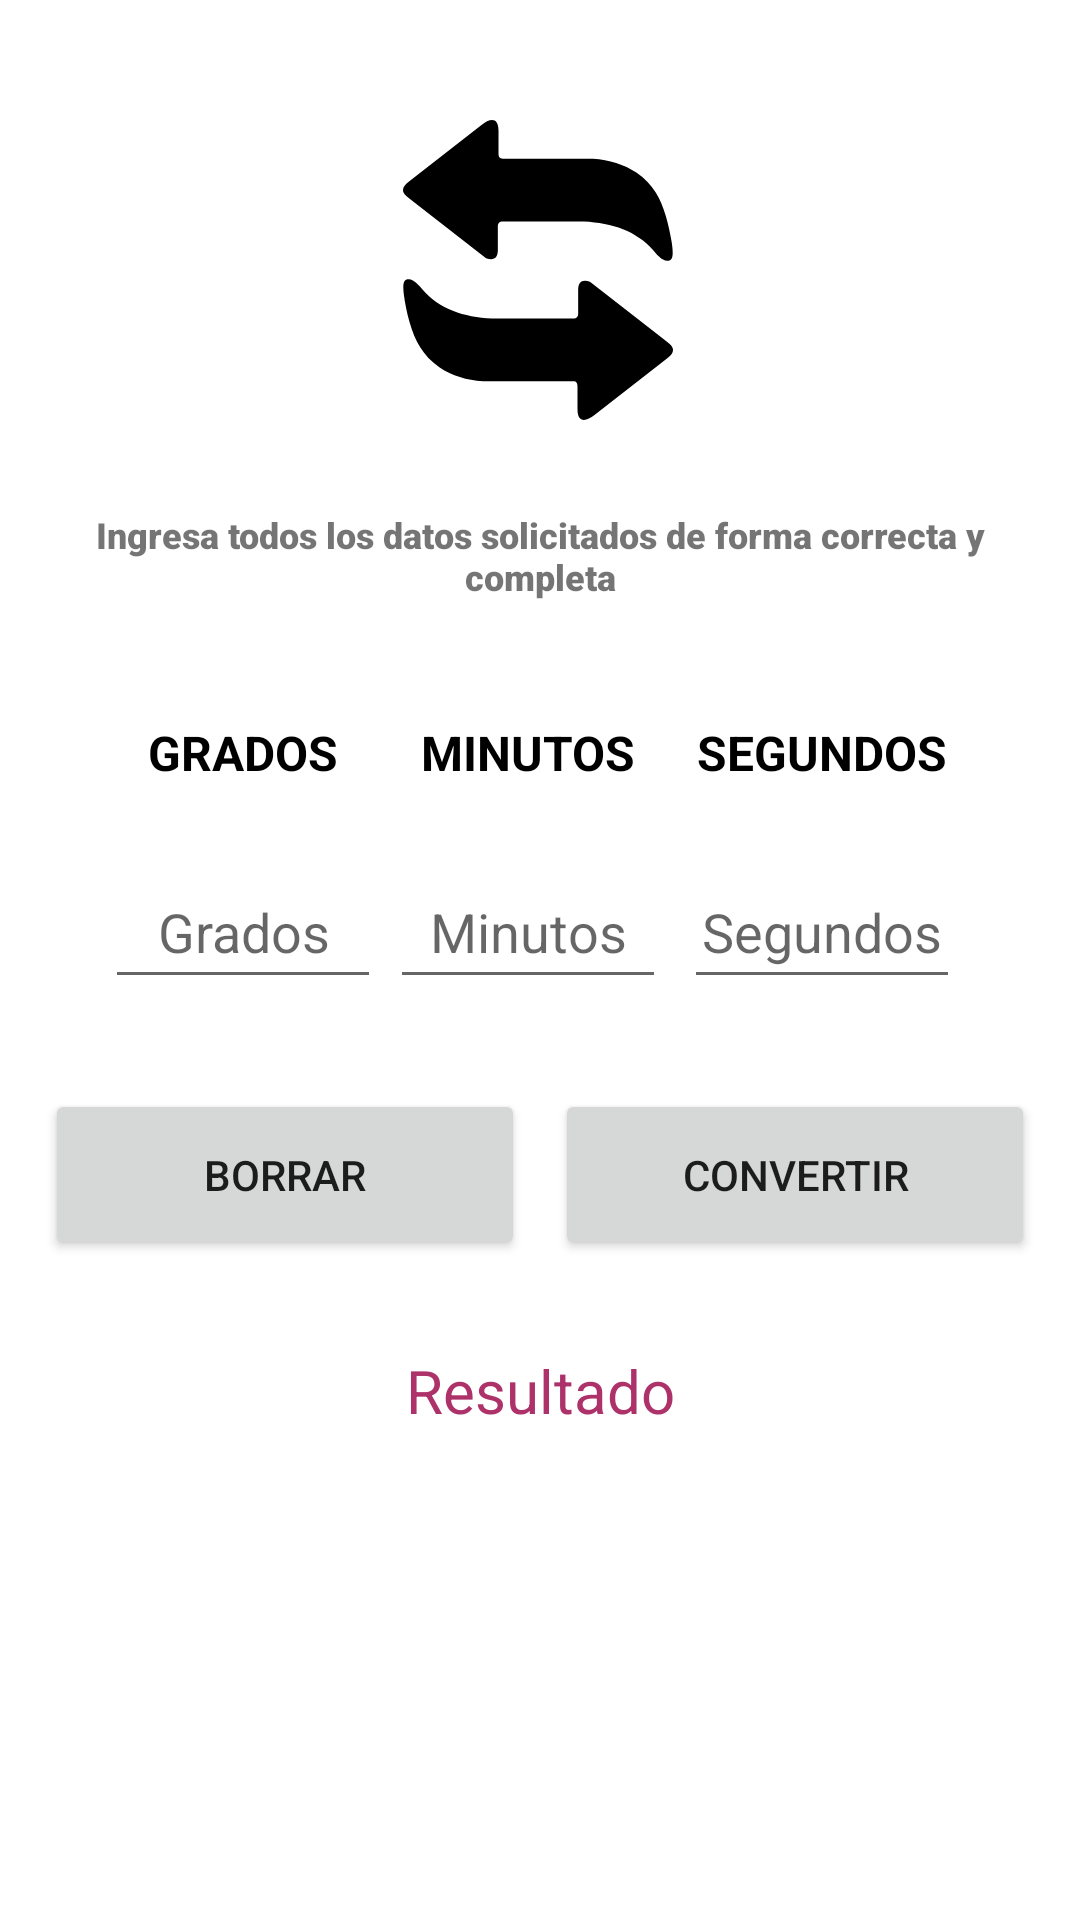

Icons on this 1080px×1920px Android screen, each with its box as (x1, y1, x2, y2):
convertir: (403, 120, 673, 420)
